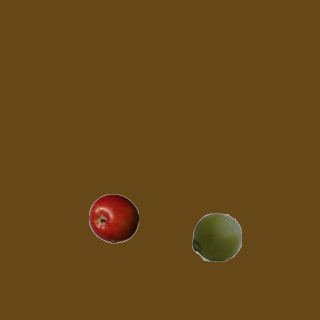Apple Braeburn: (88, 193, 138, 243)
Grape White 4: (191, 211, 241, 261)
